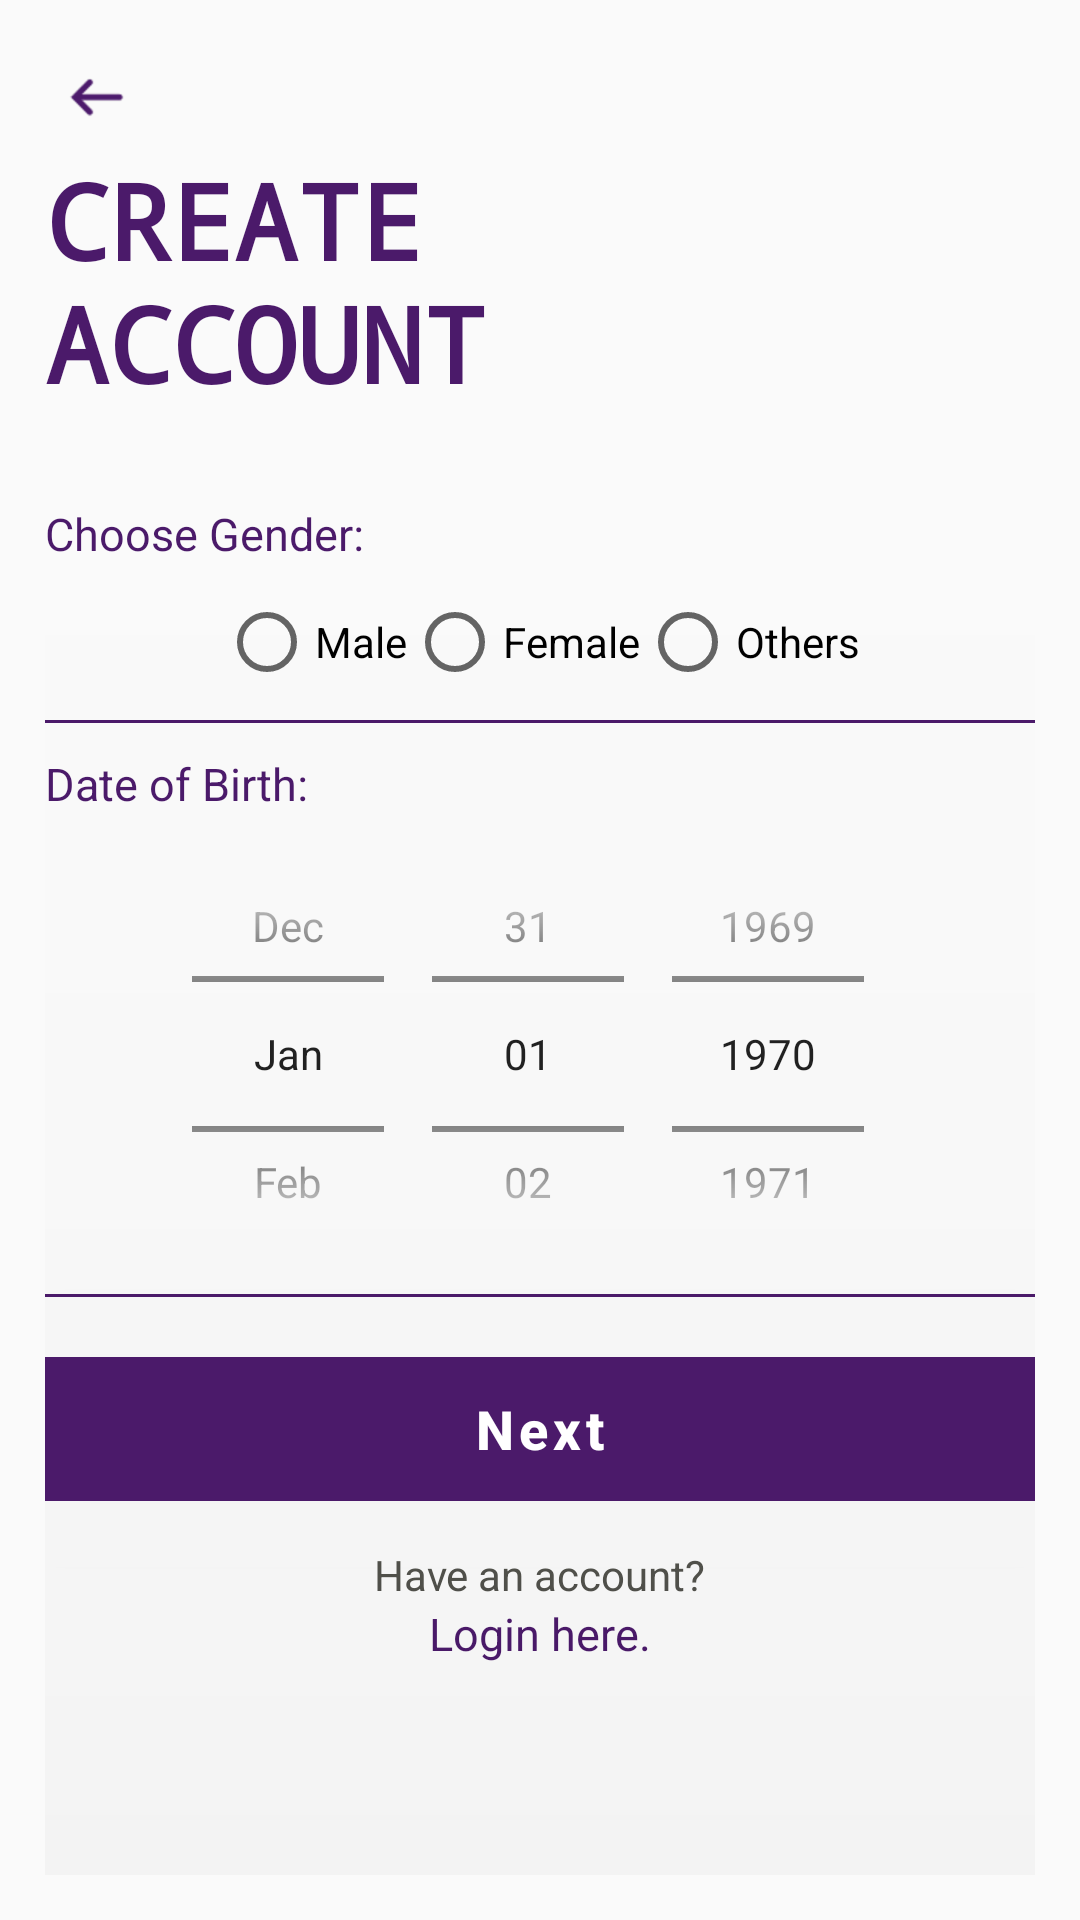

Named icons in this screenshot (1080x1920) and their bounding boxes, Rect(x1, y1, x2, y2):
left: Rect(70, 79, 123, 116)
